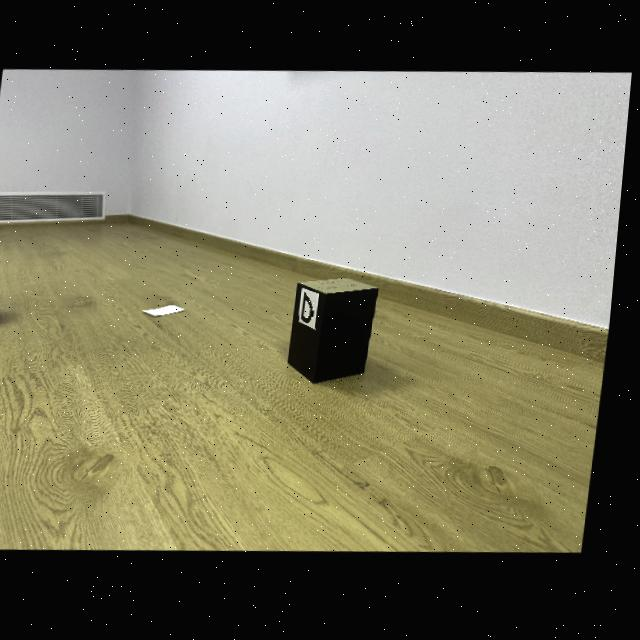D: (307, 294, 319, 325)
